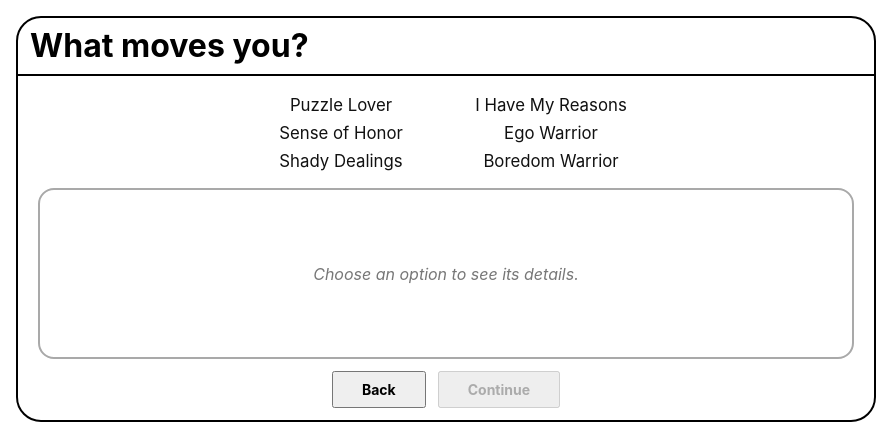
Test: details box previews the hovered option and falls back to the selected one
Expected: the element with class "details-card" reads "Choose an option to see its details.", [313,264,579,284]
Click the button with class "option" showing "Puzzle Lover".
click(341, 105)  # box [242,92,440,118]
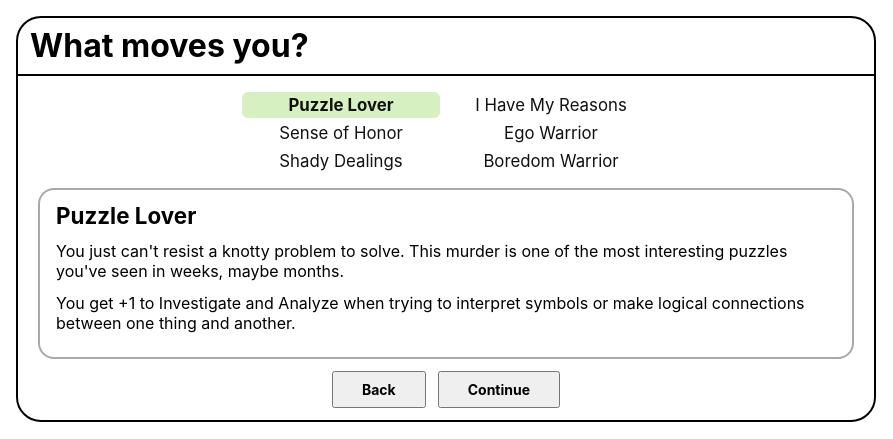
Expected: the element with class "details-card" shows "Puzzle Lover", [56,202,196,229]
Hover over the button with class "option" showing "I Have My Reasons".
mouse_move(551, 105)  # box [452,92,650,118]
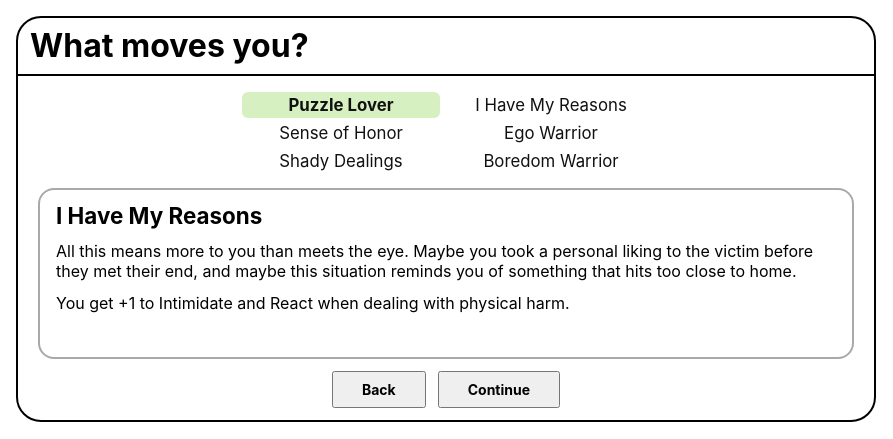
Expected: the element with class "details-card" shows "I Have My Reasons", [56,202,262,229]
Move the pointer off the button with class "option" showing "I Have My Reasons", box [452,92,650,118]
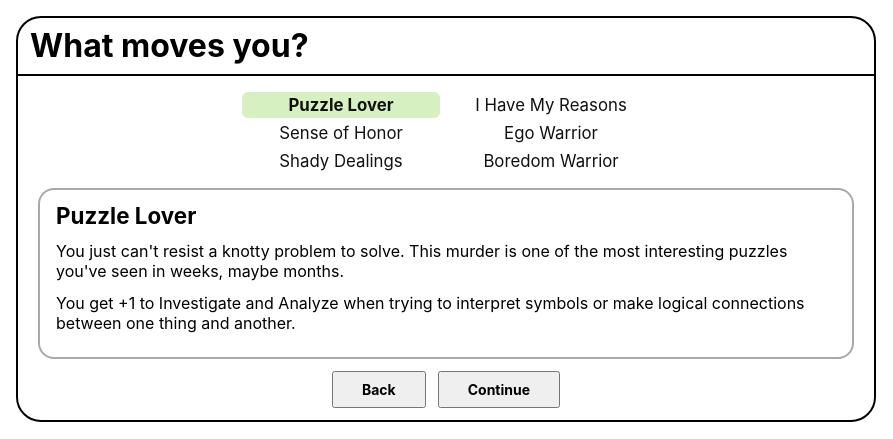
Expected: the element with class "details-card" shows "Puzzle Lover", [56,202,196,229]
